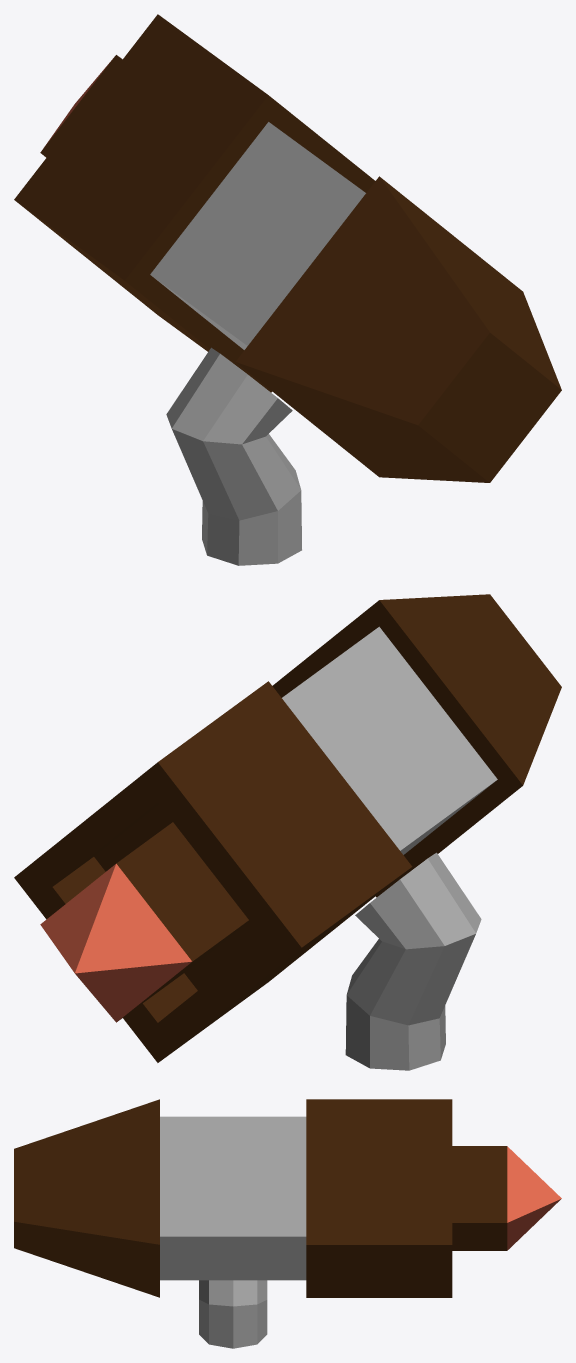
The model's file is PlayerRocketR1.glb.
3 views of the same model, one above another, from view 1: azimuth 30°, elevation 25°; view 2: azimuth 150°, elevation 25°; view 3: azimuth 270°, elevation 25° (orthographic). The views are drawn at different scales.
Parts seen in each view (by area): view 1: RocketR2; view 2: RocketR2; view 3: RocketR2.
Boxes of the visible parts, x1=… form: RocketR2: x1=14, y1=14, x2=561, y2=565; RocketR2: x1=14, y1=594, x2=561, y2=1070; RocketR2: x1=14, y1=1099, x2=561, y2=1348.
Bounding box in the file's own units: 0.4117 × 0.52 × 1.
